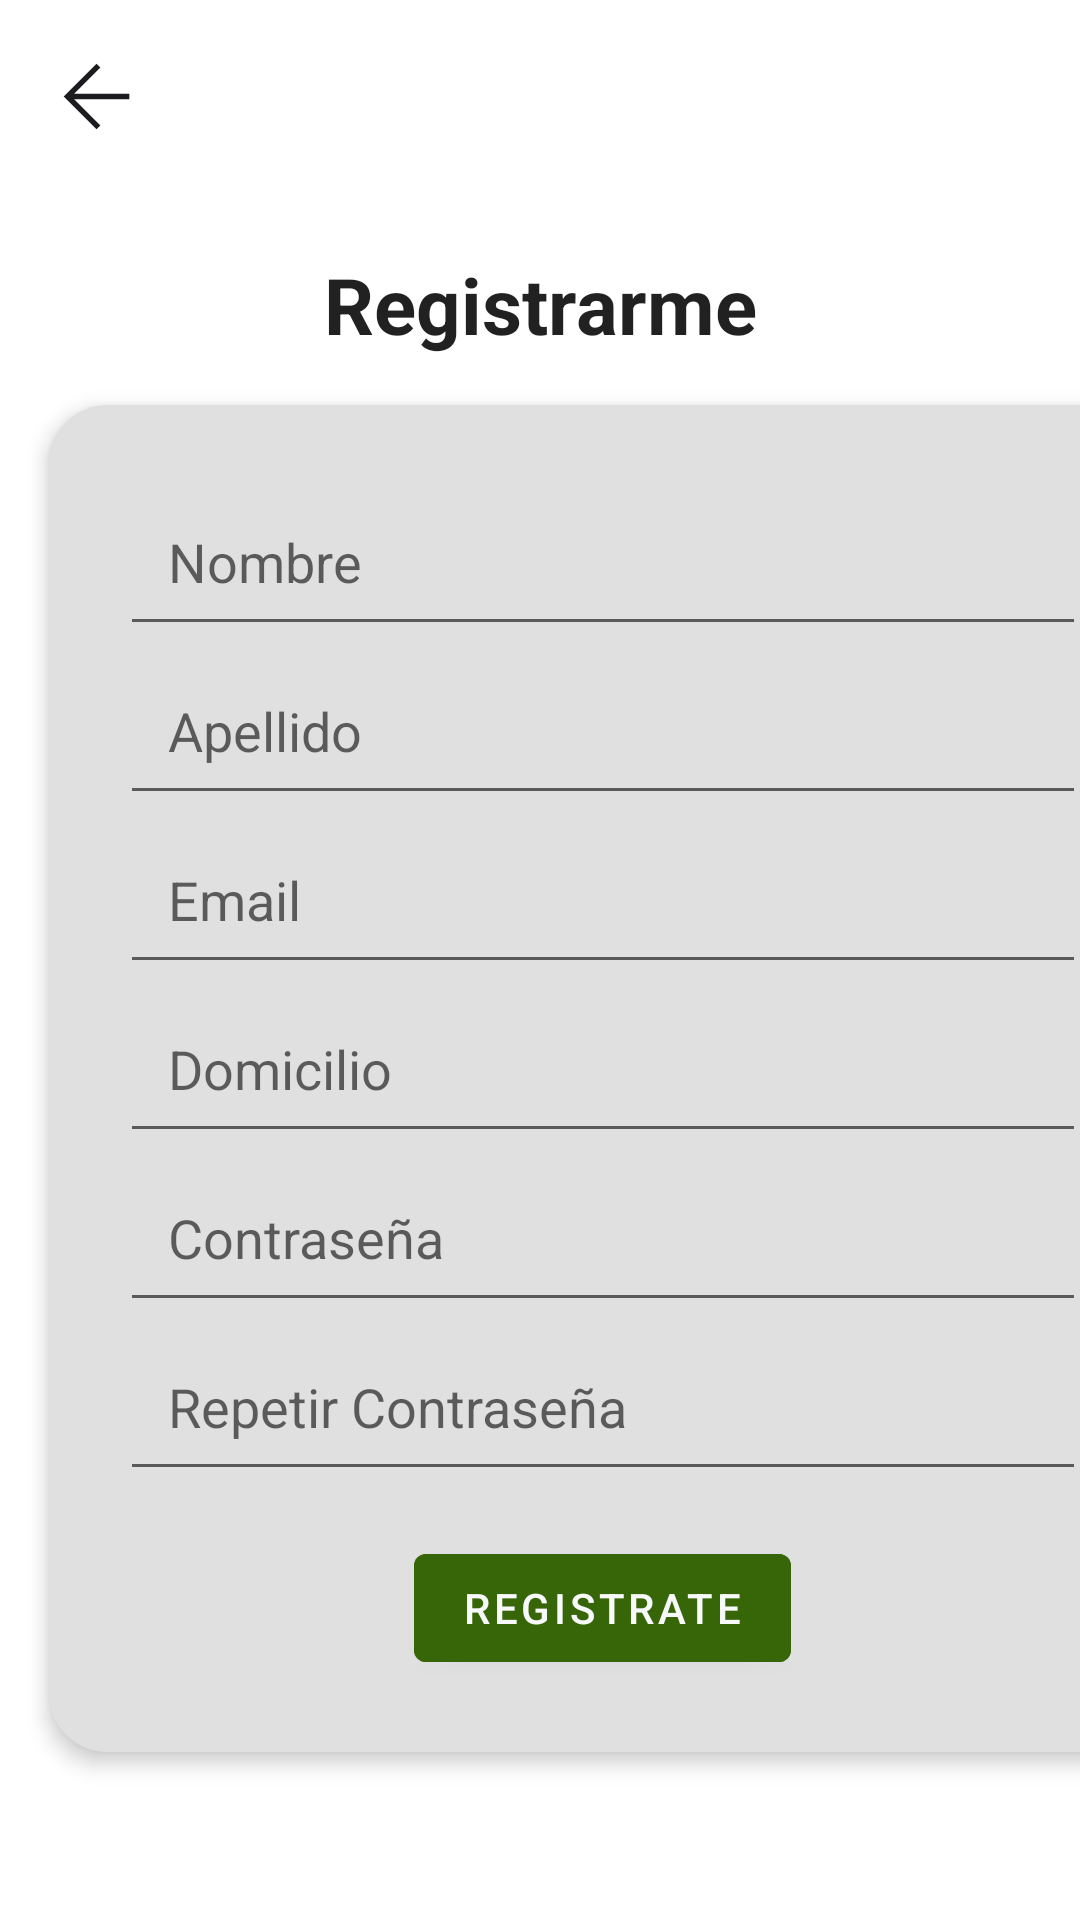

Screen size 1080 × 1920. Icon name, then its center in pixels as [x,y]:
Volver: [97,96]
